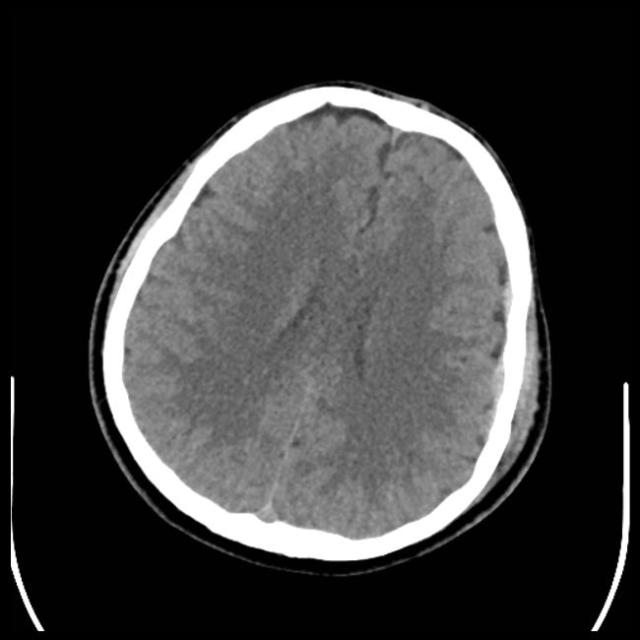lesion: (90, 82, 550, 567)
